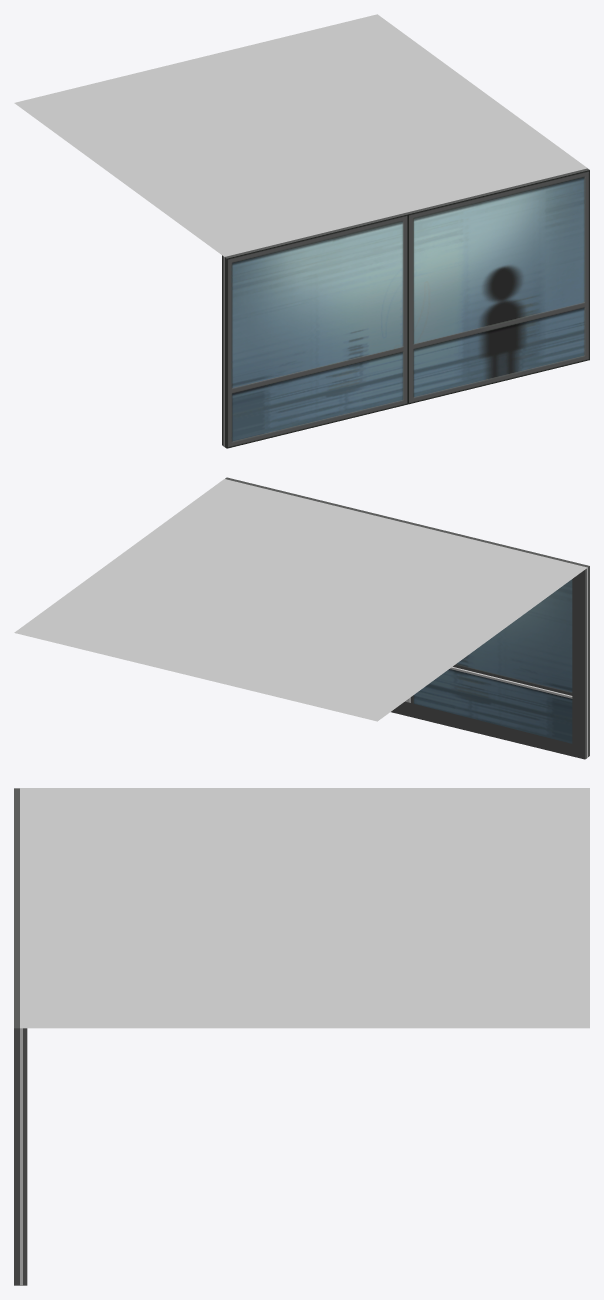
Rendered from window2.glb.
3 renders of one model, top to bottom at view 1: azimuth 30°, elevation 25°; view 2: azimuth 150°, elevation 25°; view 3: azimuth 270°, elevation 25°, orthographic. The views are drawn at different scales.
Parts seen in each view (by area): view 1: room_light, image, Cube; view 2: room_light, image, Cube; view 3: room_light, image, Cube.
Boxes of the visible parts, x1,y1,x2,y2 form: room_light: [14, 14, 586, 256]; image: [222, 168, 589, 448]; Cube: [223, 167, 587, 446]; room_light: [14, 479, 586, 721]; image: [225, 477, 589, 759]; Cube: [224, 479, 587, 758]; room_light: [21, 788, 589, 1028]; image: [14, 788, 27, 1285]; Cube: [20, 788, 22, 1285].
Size of the model in its own units: 4 by 2 by 4.05.
1 material, 1 textured.
